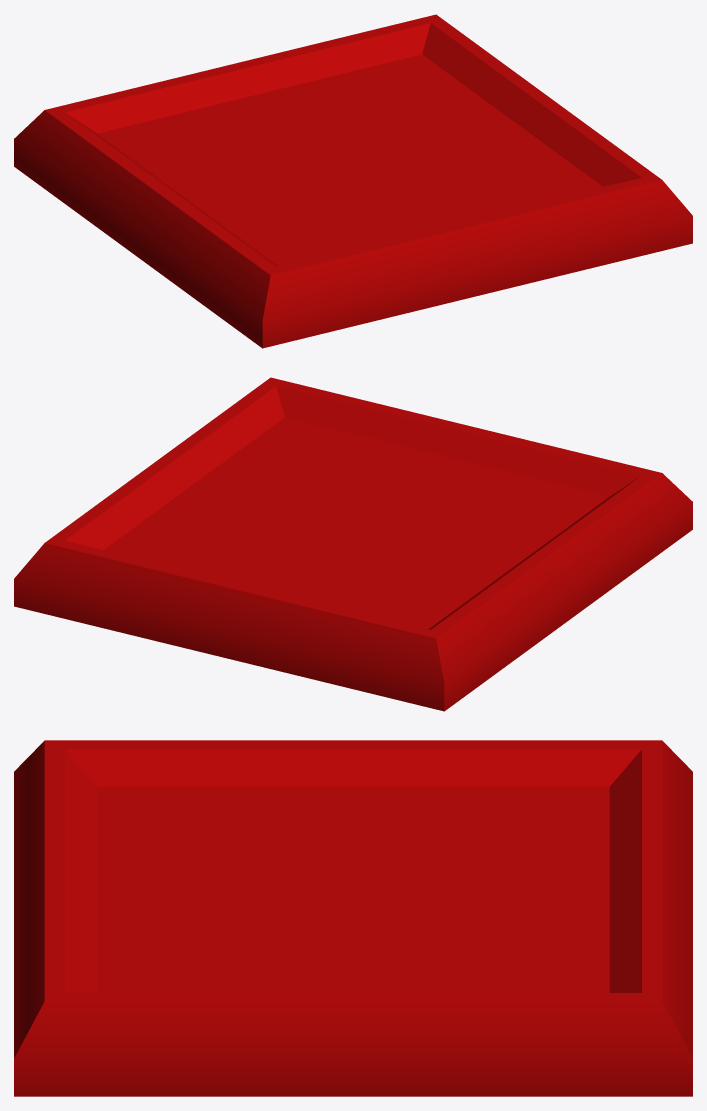
File: c_button.fbx
3 views of the same model, one above another, from view 1: azimuth 30°, elevation 25°; view 2: azimuth 150°, elevation 25°; view 3: azimuth 270°, elevation 25° (orthographic). The views are drawn at different scales.
Parts seen in each view (by area): view 1: coll_button; view 2: coll_button; view 3: coll_button.
Boxes of the visible parts, x1,y1,x2,y2 form: coll_button: (14,14,692,348); coll_button: (14,377,692,711); coll_button: (14,740,692,1096).
Size of the model in its own units: 94.72 by 12.63 by 94.72.
